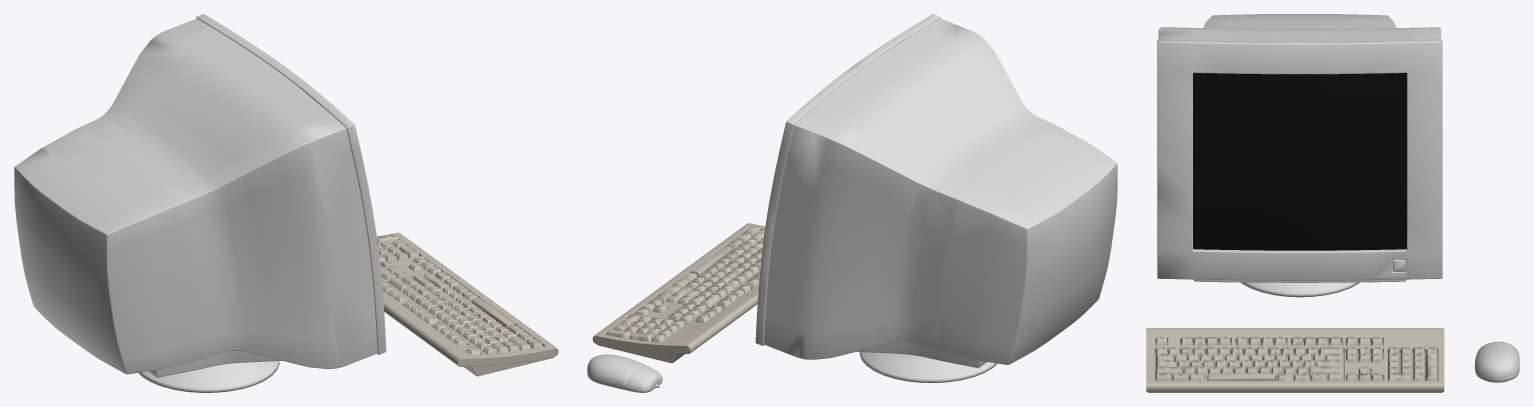
File: crt-monitor-opt.glb
3 renders of one model, left to right at view 1: azimuth 30°, elevation 25°; view 2: azimuth 150°, elevation 25°; view 3: azimuth 270°, elevation 25°, orthographic. The views are drawn at different scales.
Visible parts, largest first — view 1: Keyboard; view 2: Keyboard; view 3: Keyboard.
Part boxes in pixels (x1,y1,x2,y2): Keyboard: (14, 14, 558, 392); Keyboard: (587, 14, 1117, 392); Keyboard: (1146, 14, 1519, 392).
Size of the model in its own units: 3.77 by 2.36 by 3.04.
